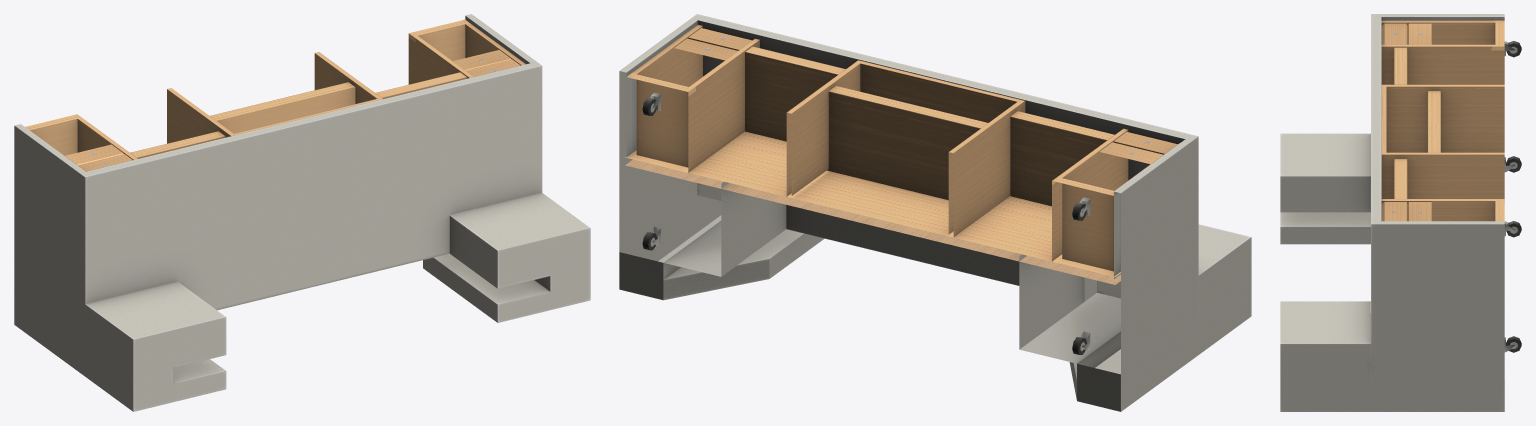
The model's file is MainTable.obj.
The picture shows the model from 3 angles, left to right: view 1: azimuth 30°, elevation 25°; view 2: azimuth 150°, elevation 25°; view 3: azimuth 270°, elevation 25°; orthographic projection. The views are drawn at different scales.
Parts seen in each view (by area): view 1: MainTable_StorageRack.001; view 2: MainTable_StorageRack.001; view 3: MainTable_StorageRack.001.
Boxes of the visible parts, x1,y1,x2,y2 form: MainTable_StorageRack.001: (14, 14, 590, 411); MainTable_StorageRack.001: (619, 14, 1251, 411); MainTable_StorageRack.001: (1280, 14, 1521, 411).
Bounding box in the file's own units: 2.4 × 1 × 1.16.
Materials: 1 (1 with a texture image).
